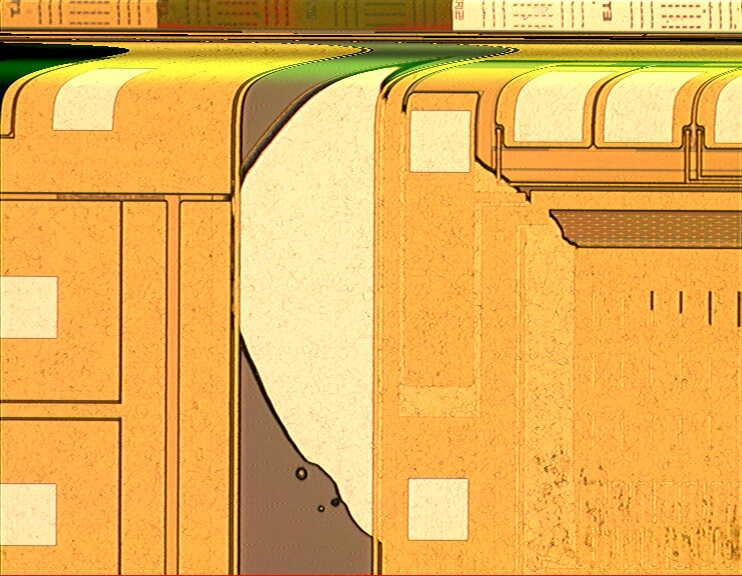BLOCK ETCH: (189, 55, 742, 576)
